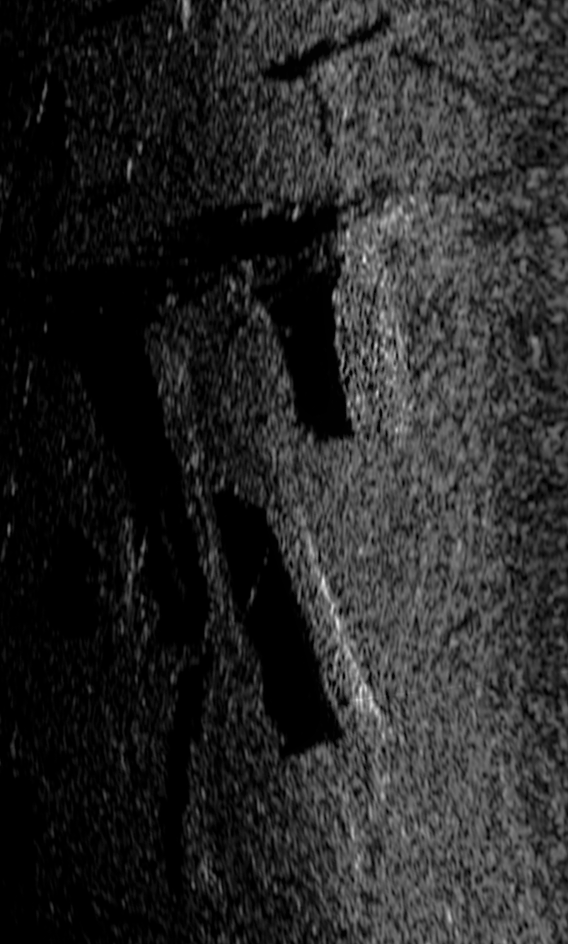ship: (149, 265, 383, 740), (334, 242, 412, 436)
